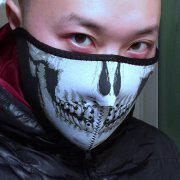OK: (38, 10, 161, 143)
